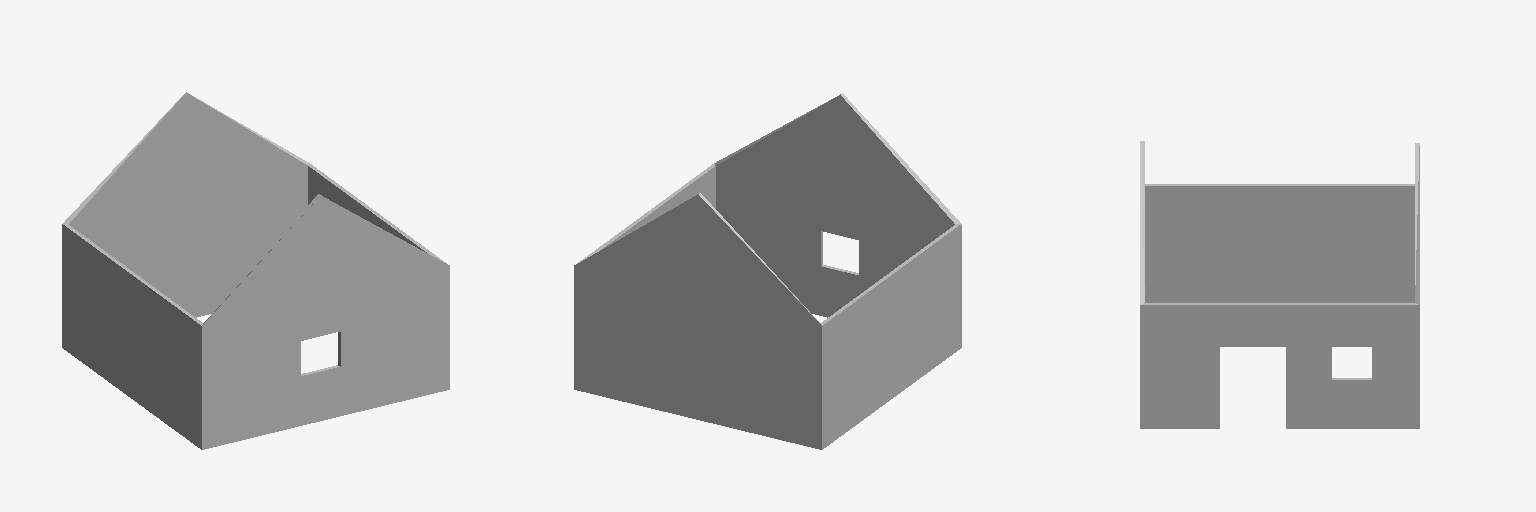
File: Paredes.obj
The picture shows the model from 3 angles: view 1: azimuth 30°, elevation 25°; view 2: azimuth 150°, elevation 25°; view 3: azimuth 270°, elevation 25°; orthographic projection.
Visible parts, largest first — view 1: Plane.189; view 2: Plane.189; view 3: Plane.189.
Part boxes in pixels (x1,y1,x2,y2): Plane.189: (62, 92, 449, 449); Plane.189: (574, 93, 961, 449); Plane.189: (1140, 141, 1419, 428).
Bounding box in the file's own units: 6.26 × 5.45 × 6.11.